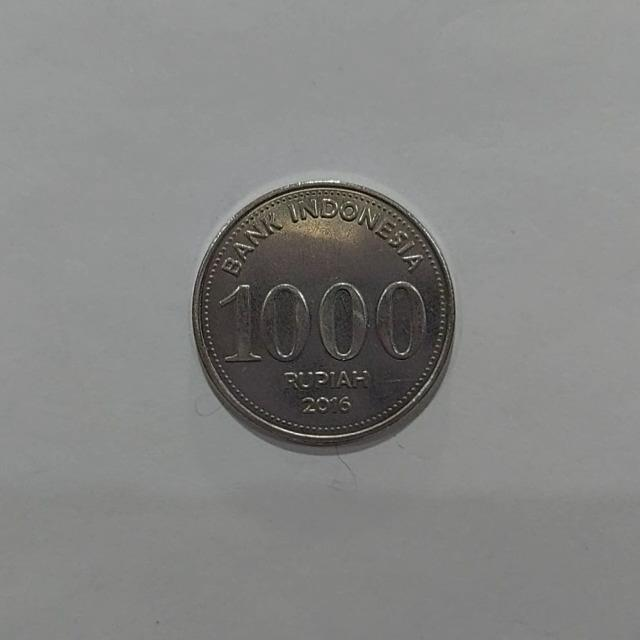Rp100: (189, 177, 457, 454)
